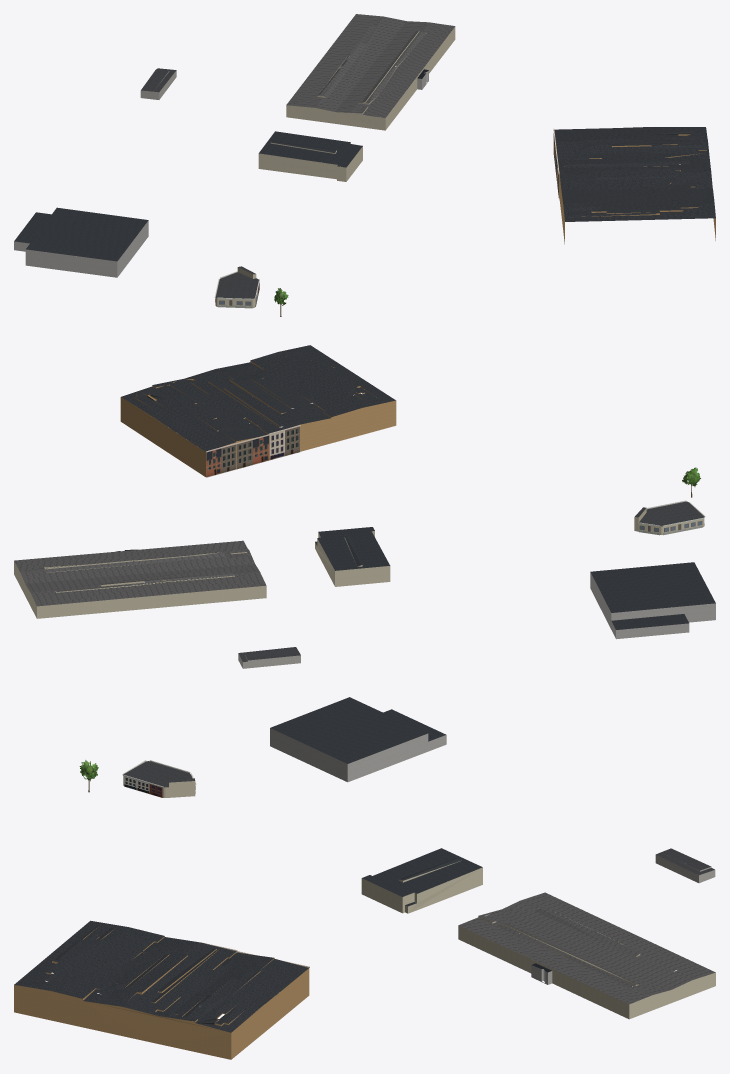
3 renders of one model, top to bottom at view 1: azimuth 30°, elevation 25°; view 2: azimuth 150°, elevation 25°; view 3: azimuth 270°, elevation 25°, orthographic. The views are drawn at different scales.
Parts seen in each view (by area): view 1: bldg_6004321520_roof, bldg_6008404168_roof, bldg_6004321463_roof, bldg_6008404168, bldg_6004321463, bldg_6004321501_roof, bldg_6004321501, bldg_6004321479_roof, bldg_6004321520; view 2: bldg_6004321520_roof, bldg_6008404168_roof, bldg_6004321520, bldg_6004321463_roof, bldg_6008404168, bldg_6004321501_roof, bldg_6004321463, bldg_6004321501, bldg_6004321479_roof, bldg_6004321520_facade1, bldg_6004321520_facade0, bldg_6004321520_facade2 (+2 smaller); view 3: bldg_6004321520_roof, bldg_6008404168_roof, bldg_6004321520, bldg_6004321463_roof, bldg_6008404168, bldg_6004321463, bldg_6004321501_roof, bldg_6004321501, bldg_6004321479_roof, bldg_6004581070_roof, bldg_6004581070.
Part boxes in pixels (x1,y1,x2,y2): bldg_6004321520_roof: (554,127,715,221); bldg_6008404168_roof: (286,14,455,117); bldg_6004321463_roof: (14,207,148,261); bldg_6008404168: (286,27,455,130); bldg_6004321463: (14,220,148,277); bldg_6004321501_roof: (259,131,362,167); bldg_6004321501: (258,142,362,181); bldg_6004321479_roof: (216,266,258,298); bldg_6004321520: (554,130,715,244); bldg_6004321520_roof: (121,345,395,451); bldg_6008404168_roof: (14,540,266,606); bldg_6004321520: (120,360,396,476); bldg_6004321463_roof: (590,562,715,629); bldg_6008404168: (14,552,266,618); bldg_6004321501_roof: (315,527,390,570); bldg_6004321463: (590,572,715,639); bldg_6004321501: (315,531,390,586); bldg_6004321479_roof: (635,501,704,526); bldg_6004321520_facade1: (236,434,269,469); bldg_6004321520_facade0: (269,425,300,460); bldg_6004321520_facade2: (205,443,236,477); bldg_6004321520_roof: (14,920,308,1032); bldg_6008404168_roof: (458,892,715,1004); bldg_6004321520: (14,928,309,1059); bldg_6004321463_roof: (270,697,445,763); bldg_6008404168: (458,908,715,1019); bldg_6004321463: (270,728,446,782); bldg_6004321501_roof: (362,848,482,906); bldg_6004321501: (361,860,482,913); bldg_6004321479_roof: (123,761,195,787); bldg_6004581070_roof: (656,848,714,875); bldg_6004581070: (655,854,715,883).
Bounding box in the file's own units: 287 × 13.21 × 247.
Materials: 17 (11 with a texture image).
